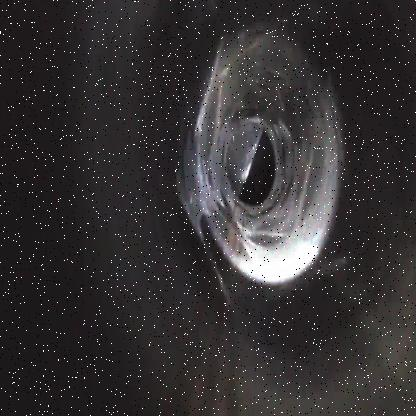Crack: (176, 22, 340, 299)
